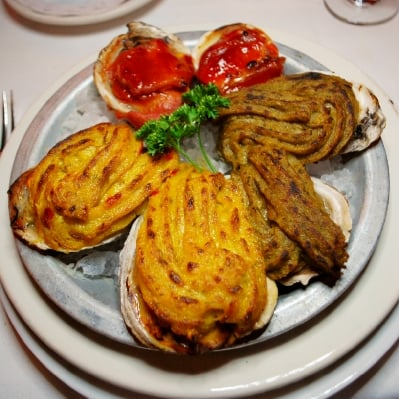burger: (0, 89, 14, 156)
curry: (134, 83, 231, 173)
pizza: (322, 0, 399, 26)
soup: (7, 120, 178, 254)
